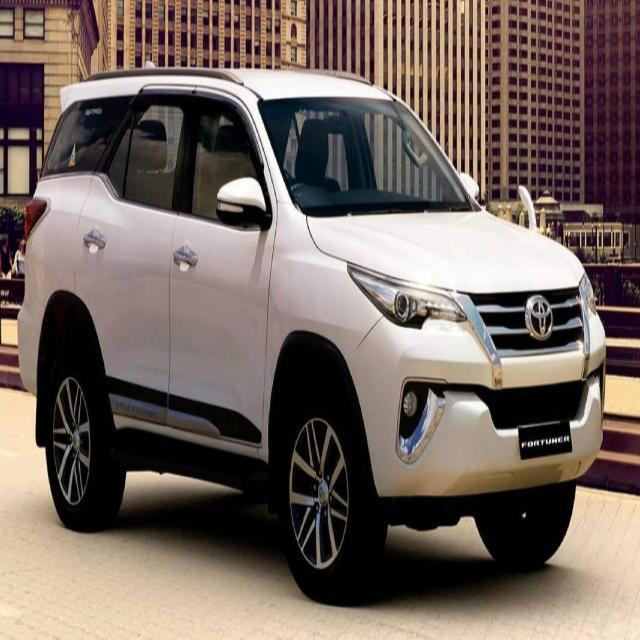light_vehicle: (16, 66, 607, 604)
